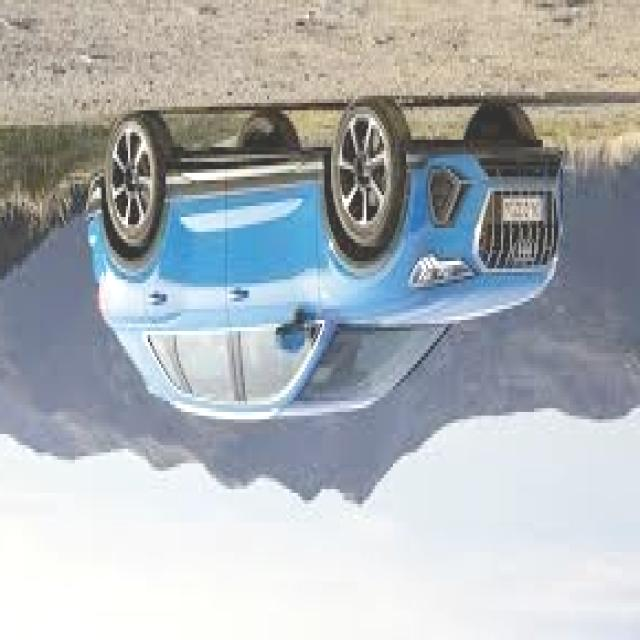blue: (80, 93, 569, 439)
